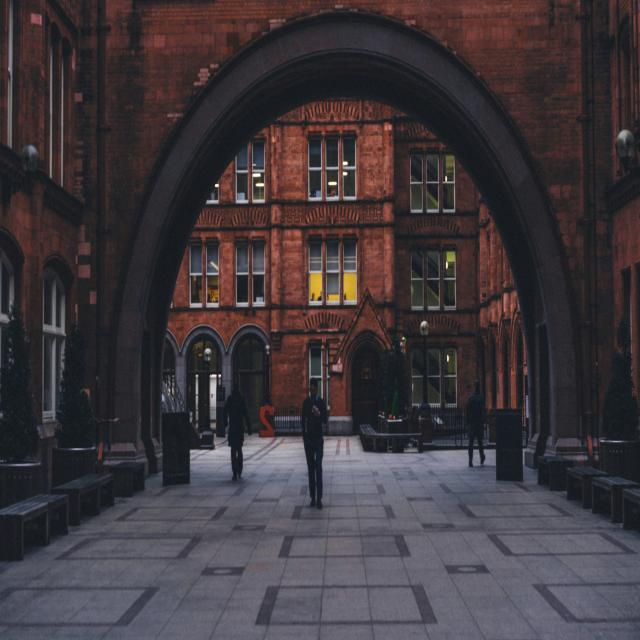adult: (296, 378, 326, 504)
